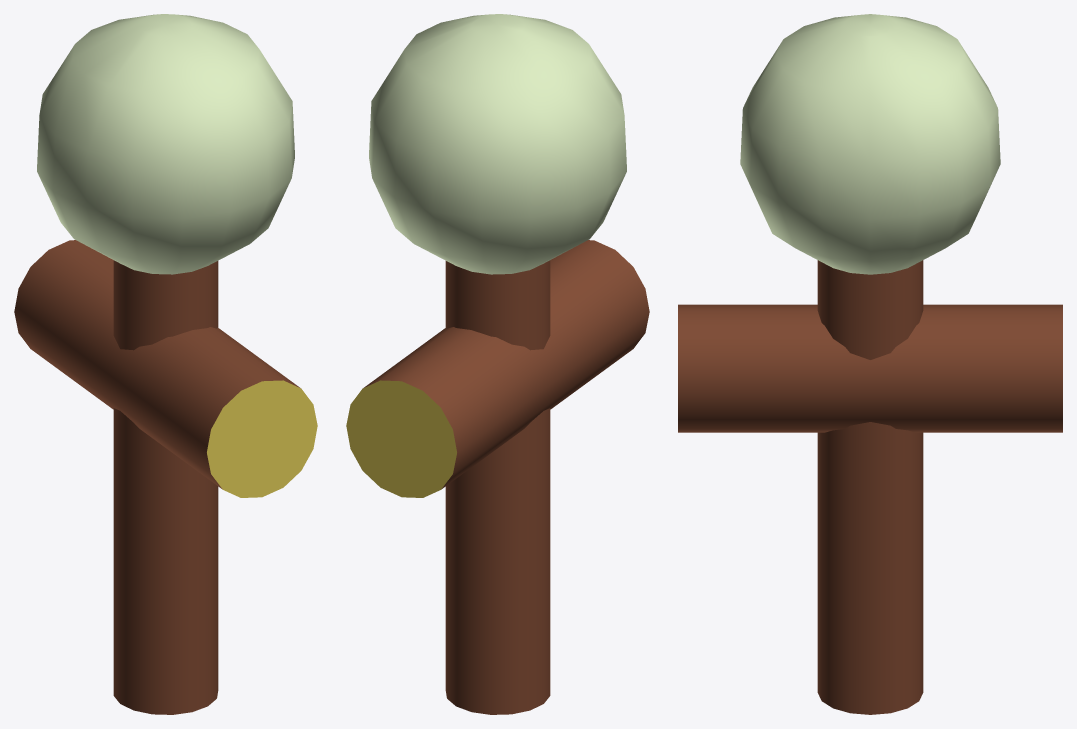
The model's file is fence_01.fbx.
The picture shows the model from 3 angles, left to right: view 1: azimuth 30°, elevation 25°; view 2: azimuth 150°, elevation 25°; view 3: azimuth 270°, elevation 25°; orthographic projection.
Parts seen in each view (by area): view 1: Cylinder.003; view 2: Cylinder.003; view 3: Cylinder.003.
Part boxes in pixels (x1=…): Cylinder.003: x1=14, y1=14, x2=317, y2=714; Cylinder.003: x1=346, y1=14, x2=649, y2=714; Cylinder.003: x1=678, y1=14, x2=1062, y2=714.
Size of the model in its own units: 49.35 by 140 by 72.92.
